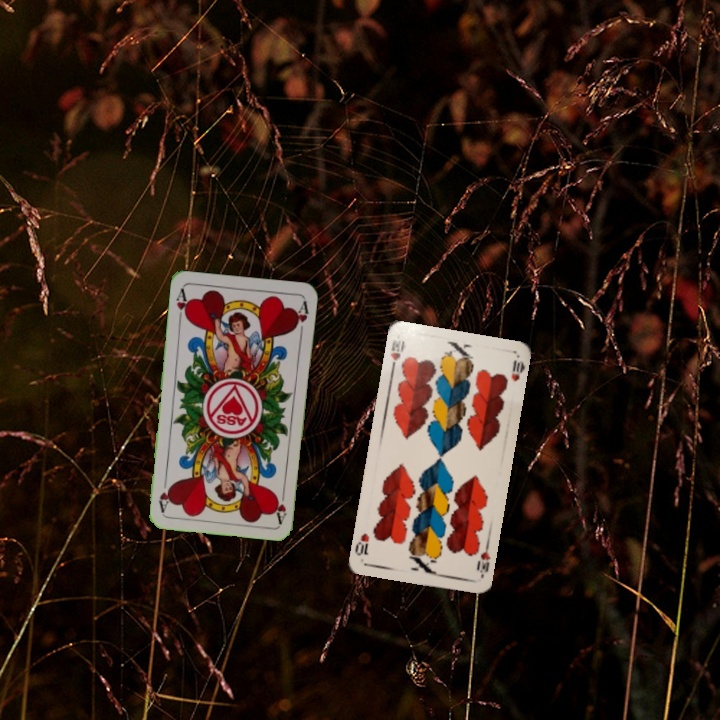H10: (472, 540, 493, 581), (386, 335, 407, 374)
HA: (172, 285, 192, 326), (272, 484, 289, 525)
